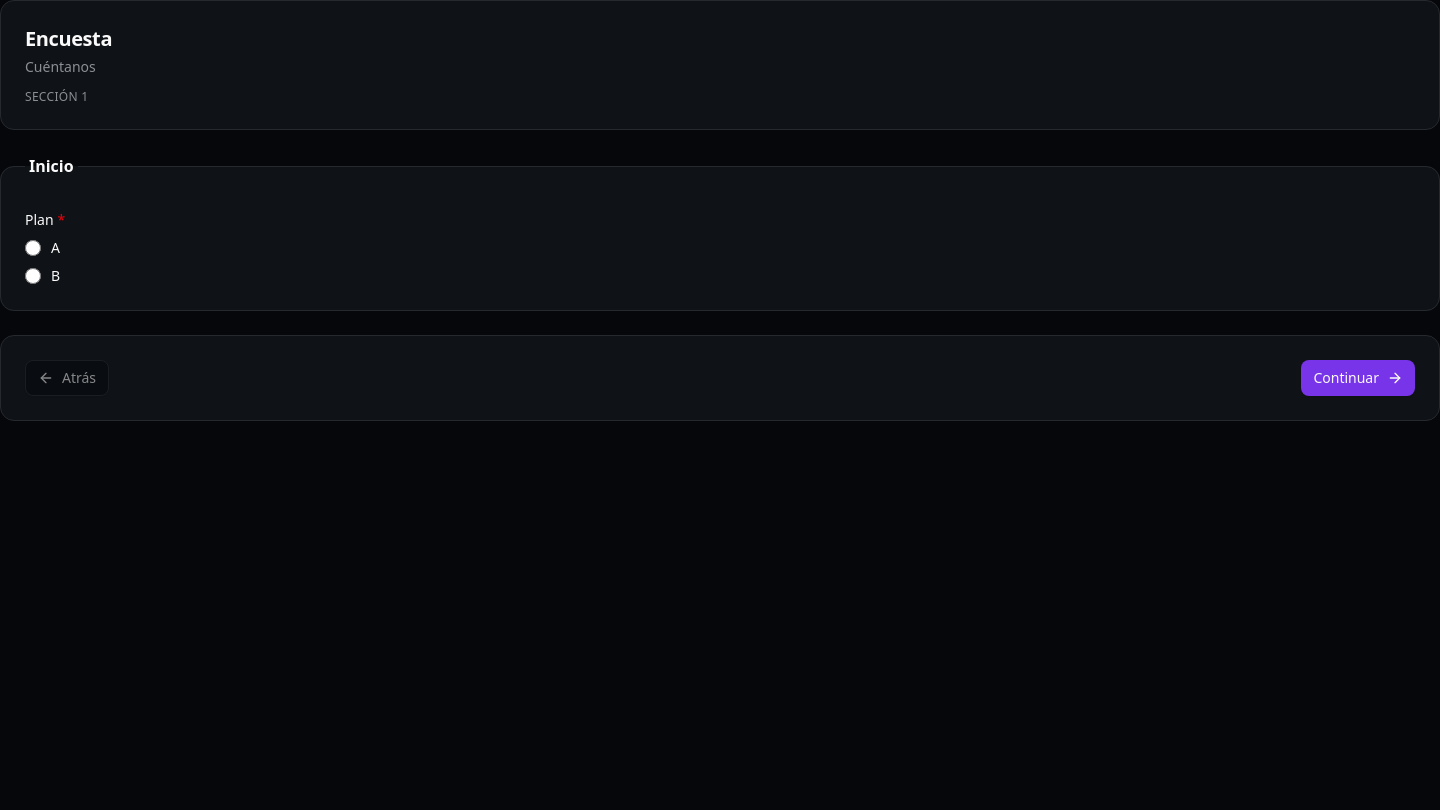
Scenario: RenderizadorFormulario con lógica IF › valida la requerida visible antes de enviar
Click the radio button labelled "A".
click(33, 248)  # box [25, 240, 41, 256]
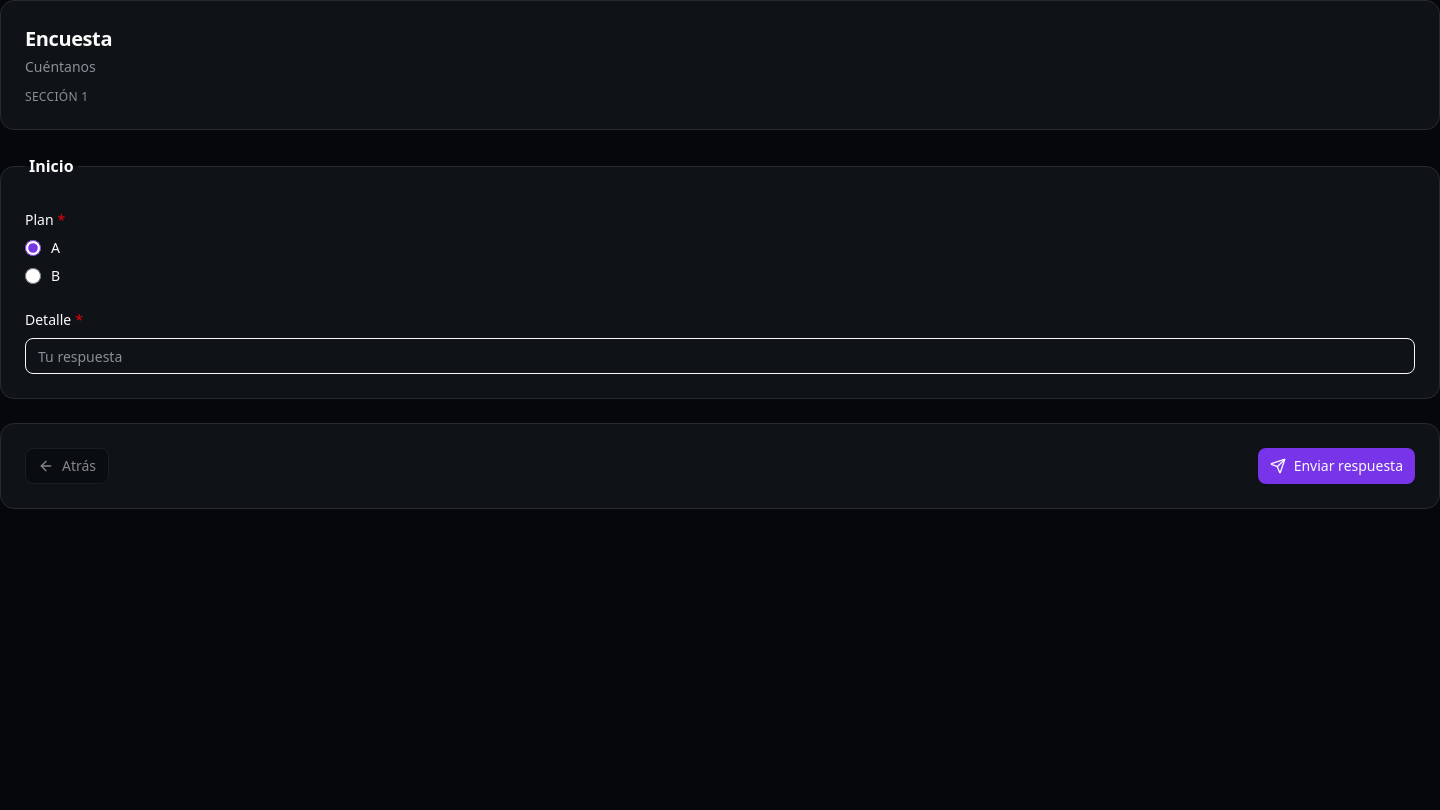
Click the button "Enviar respuesta".
click(1336, 466)  # box [1258, 448, 1415, 484]
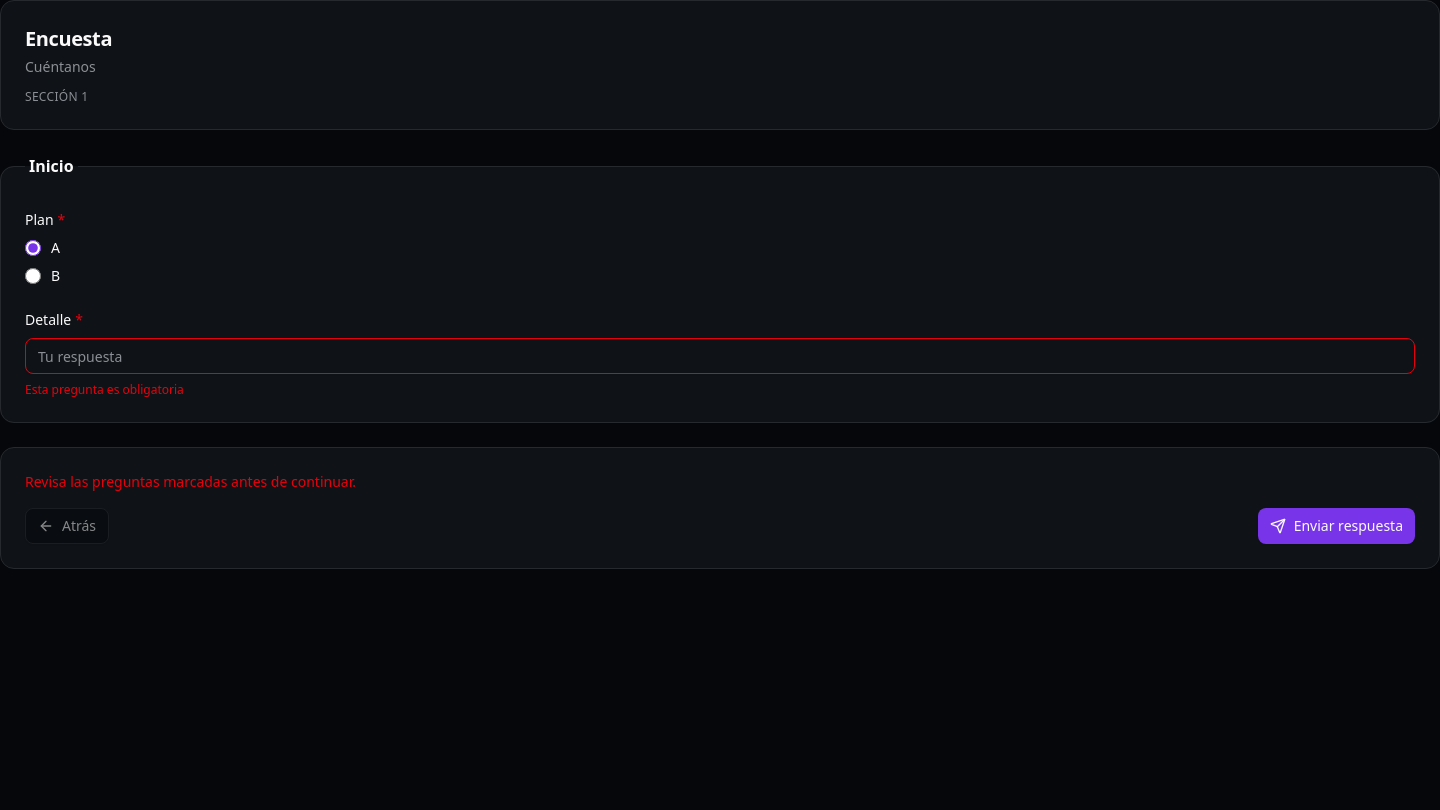
Check: the text "Esta pregunta es obligatoria" is shown, box [25, 381, 184, 398]
